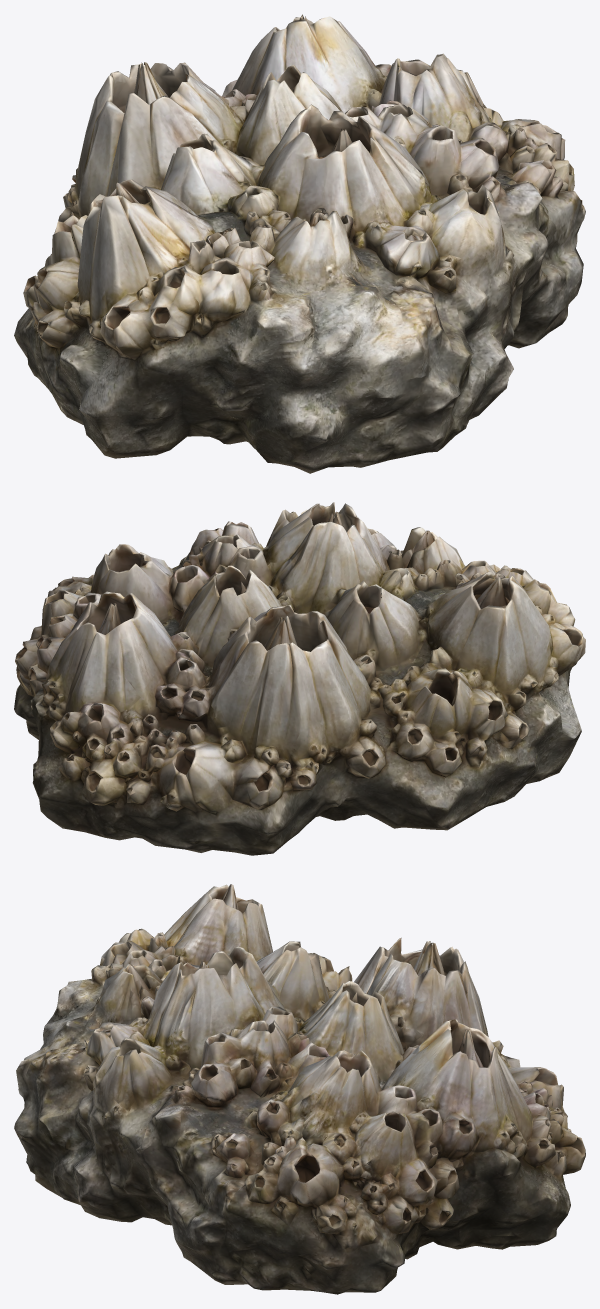
File: T24_barnacle_lo.glb
3 views of the same model, one above another, from view 1: azimuth 30°, elevation 25°; view 2: azimuth 150°, elevation 25°; view 3: azimuth 270°, elevation 25° (orthographic). The views are drawn at different scales.
Parts seen in each view (by area): view 1: tripo_node_674412bc-47e3-4075-97f8-6c215ee8a266; view 2: tripo_node_674412bc-47e3-4075-97f8-6c215ee8a266; view 3: tripo_node_674412bc-47e3-4075-97f8-6c215ee8a266.
Part boxes in pixels (box(x1,y1,x2,y2)): tripo_node_674412bc-47e3-4075-97f8-6c215ee8a266: box(14, 14, 585, 473); tripo_node_674412bc-47e3-4075-97f8-6c215ee8a266: box(14, 502, 585, 855); tripo_node_674412bc-47e3-4075-97f8-6c215ee8a266: box(14, 884, 585, 1294).
Bounding box in the file's own units: 0.9629 × 0.4426 × 0.9787.
1 material, 1 textured.
